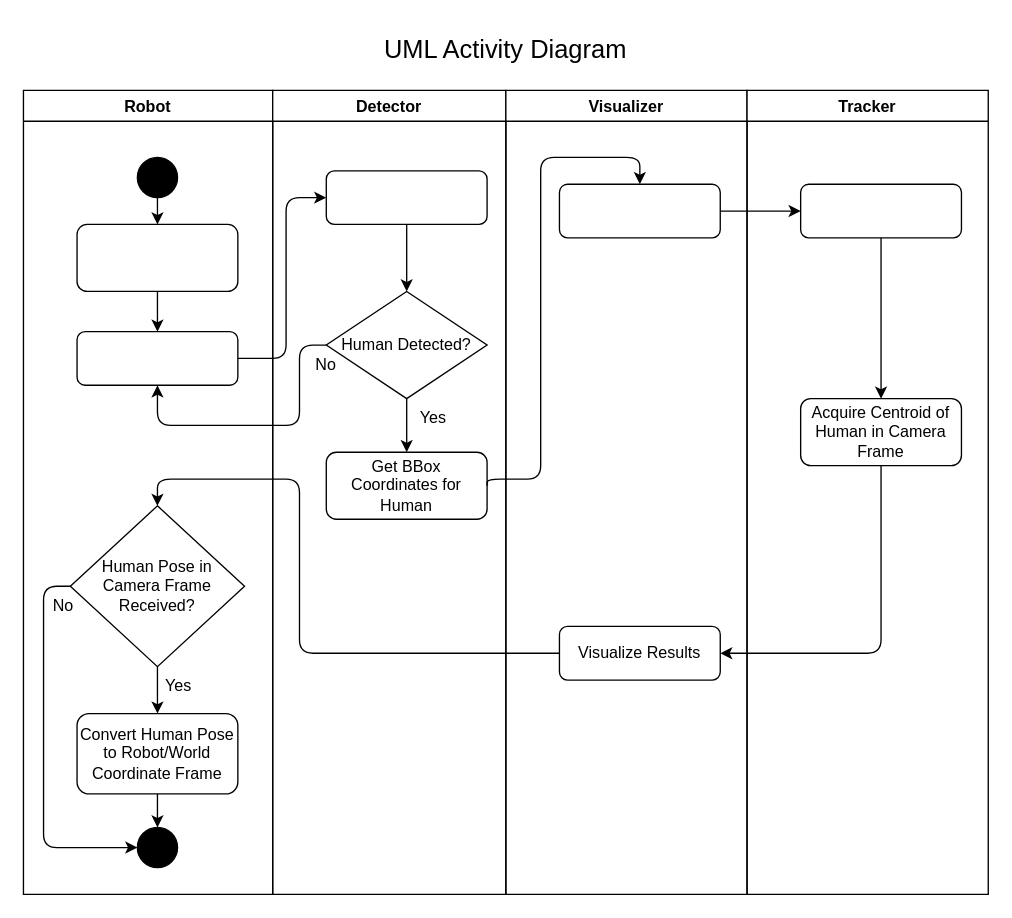
This 1012x918 diagram has some shape labels left out. Each missing label, with the centre of its shape:
Draw Bounding Box Around Each Human: the point at 639,210
Initialize Camera or video: the point at 157,257
Process Each Frame Using YOLO Model: the point at 406,197
Read Next Frames: the point at 157,357
Track Human in Subsequent Frames: the point at 880,210
